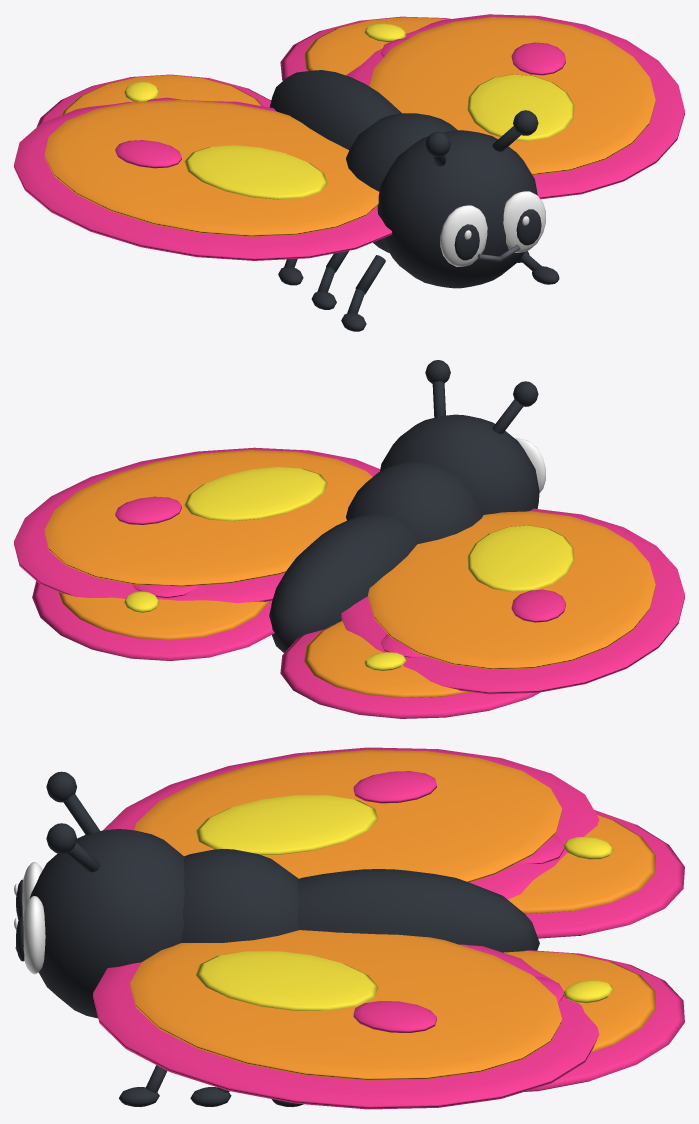
File: Ladybug.glb
3 renders of one model, top to bottom at view 1: azimuth 30°, elevation 25°; view 2: azimuth 150°, elevation 25°; view 3: azimuth 270°, elevation 25°, orthographic. The views are drawn at different scales.
Visible parts, largest first — view 1: Butterfly_UpperWingInner_L, Butterfly_UpperWingInner_R, Butterfly_Head, Butterfly_UpperWingBorder_L, Butterfly_UpperWingBorder_R, Butterfly_Abdomen, Butterfly_UpperYellowSpot_L, Butterfly_UpperYellowSpot_R, Butterfly_Thorax, Butterfly_LowerWingInner_R, Butterfly_LowerWingInner_L, Butterfly_EyeWhite_L (+12 smaller); view 2: Butterfly_UpperWingInner_L, Butterfly_UpperWingInner_R, Butterfly_UpperWingBorder_L, Butterfly_Abdomen, Butterfly_Head, Butterfly_UpperWingBorder_R, Butterfly_Thorax, Butterfly_LowerWingInner_R, Butterfly_LowerWingBorder_R, Butterfly_LowerWingBorder_L, Butterfly_UpperYellowSpot_R, Butterfly_UpperYellowSpot_L (+7 smaller); view 3: Butterfly_UpperWingInner_R, Butterfly_UpperWingInner_L, Butterfly_UpperWingBorder_R, Butterfly_Head, Butterfly_Abdomen, Butterfly_Thorax, Butterfly_UpperYellowSpot_R, Butterfly_UpperYellowSpot_L, Butterfly_LowerWingInner_L, Butterfly_UpperWingBorder_L, Butterfly_LowerWingInner_R, Butterfly_LowerWingBorder_L (+12 smaller).
Boxes of the visible parts, x1,y1,x2,y2 form: Butterfly_UpperWingInner_L: [44, 100, 379, 236]; Butterfly_UpperWingInner_R: [369, 17, 655, 175]; Butterfly_Head: [377, 130, 537, 288]; Butterfly_UpperWingBorder_L: [14, 100, 392, 260]; Butterfly_UpperWingBorder_R: [346, 14, 684, 199]; Butterfly_Abdomen: [269, 70, 401, 149]; Butterfly_UpperYellowSpot_L: [184, 145, 327, 199]; Butterfly_UpperYellowSpot_R: [467, 74, 574, 141]; Butterfly_Thorax: [346, 113, 457, 252]; Butterfly_LowerWingInner_R: [304, 17, 447, 75]; Butterfly_LowerWingInner_L: [61, 75, 262, 115]; Butterfly_EyeWhite_L: [440, 205, 487, 266]; Butterfly_UpperWingInner_L: [368, 511, 655, 669]; Butterfly_UpperWingInner_R: [44, 450, 372, 586]; Butterfly_UpperWingBorder_L: [341, 508, 684, 694]; Butterfly_Abdomen: [269, 513, 417, 652]; Butterfly_Head: [380, 414, 539, 514]; Butterfly_UpperWingBorder_R: [14, 447, 380, 603]; Butterfly_Thorax: [346, 461, 483, 544]; Butterfly_LowerWingInner_R: [58, 592, 270, 640]; Butterfly_LowerWingBorder_R: [32, 581, 274, 660]; Butterfly_LowerWingBorder_L: [280, 629, 539, 718]; Butterfly_UpperYellowSpot_R: [184, 467, 327, 521]; Butterfly_UpperYellowSpot_L: [467, 525, 574, 592]; Butterfly_UpperWingInner_R: [130, 930, 561, 1080]; Butterfly_UpperWingInner_L: [134, 750, 561, 882]; Butterfly_UpperWingBorder_R: [93, 944, 599, 1109]; Butterfly_Head: [29, 829, 184, 1018]; Butterfly_Abdomen: [297, 869, 539, 952]; Butterfly_Thorax: [181, 849, 299, 942]; Butterfly_UpperYellowSpot_R: [196, 951, 378, 1010]; Butterfly_UpperYellowSpot_L: [196, 795, 378, 854]; Butterfly_LowerWingInner_L: [508, 814, 655, 913]; Butterfly_UpperWingBorder_L: [103, 747, 599, 899]; Butterfly_LowerWingInner_R: [504, 951, 655, 1052]; Butterfly_LowerWingBorder_L: [525, 810, 684, 938].
Bounding box in the file's own units: 3.78 × 1.23 × 3.
